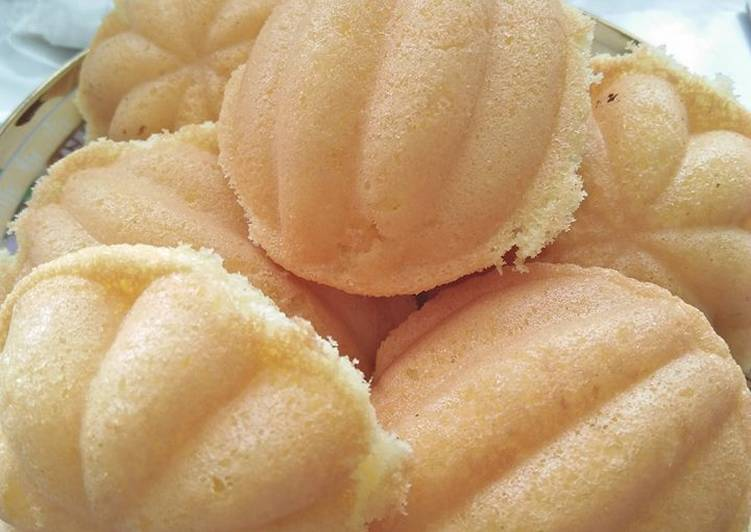kanomkai: (229, 1, 625, 314)
